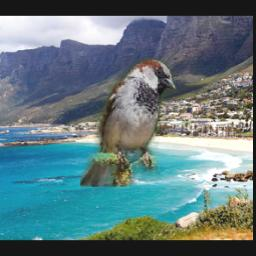Sparrow: (80, 59, 177, 188)
